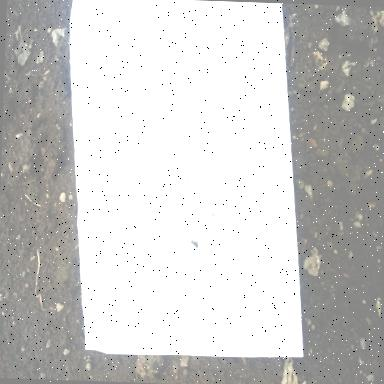pbw: (197, 236, 204, 244)
